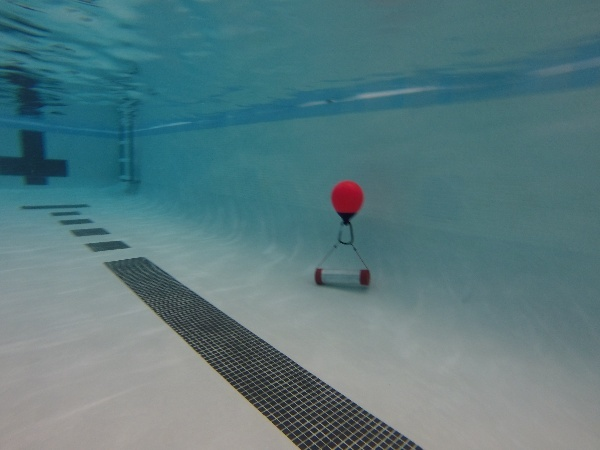buoy_red: (326, 179, 366, 225)
